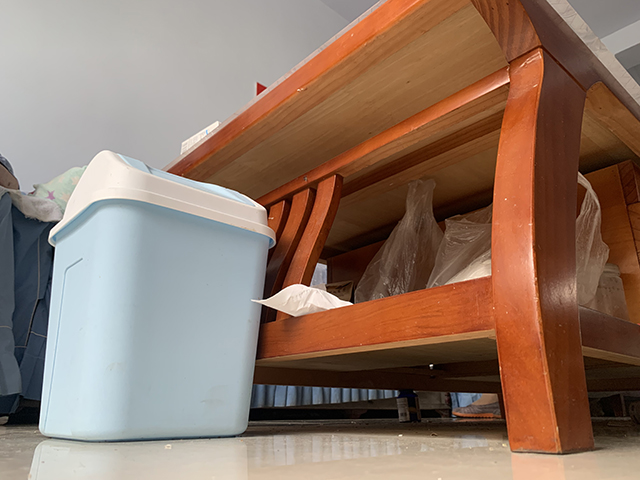table: (161, 1, 640, 455)
trashcan: (37, 148, 277, 444)
